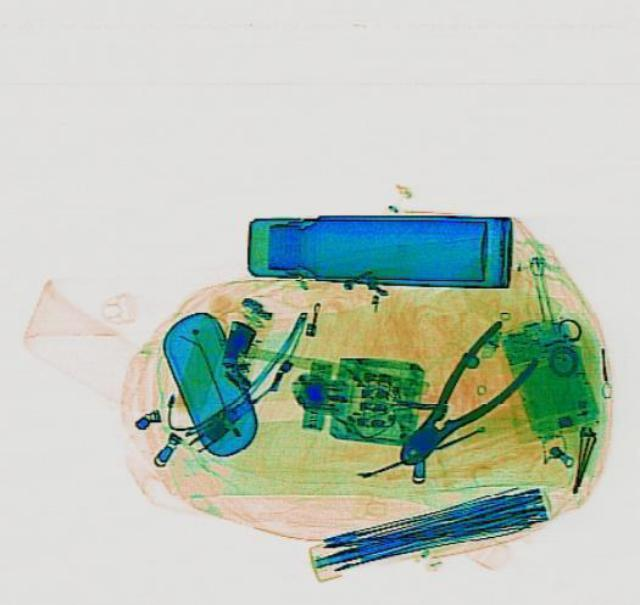Pliers: (378, 317, 548, 480)
